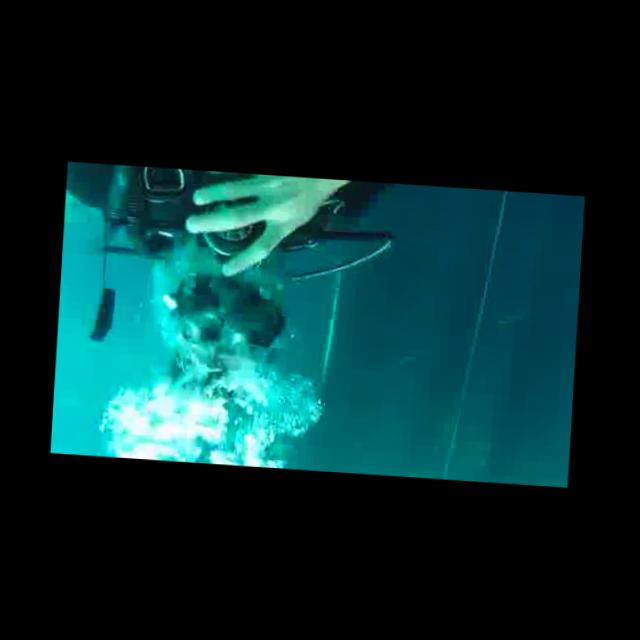human: (55, 161, 429, 408)
